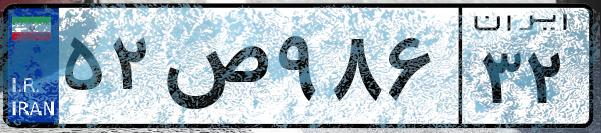2: (525, 38, 570, 115), (110, 28, 158, 98)
3: (475, 38, 525, 113)
5: (57, 26, 110, 100)
6: (385, 28, 445, 110)
8: (330, 28, 385, 110)
9: (270, 28, 330, 110)
ص: (158, 20, 270, 120)
